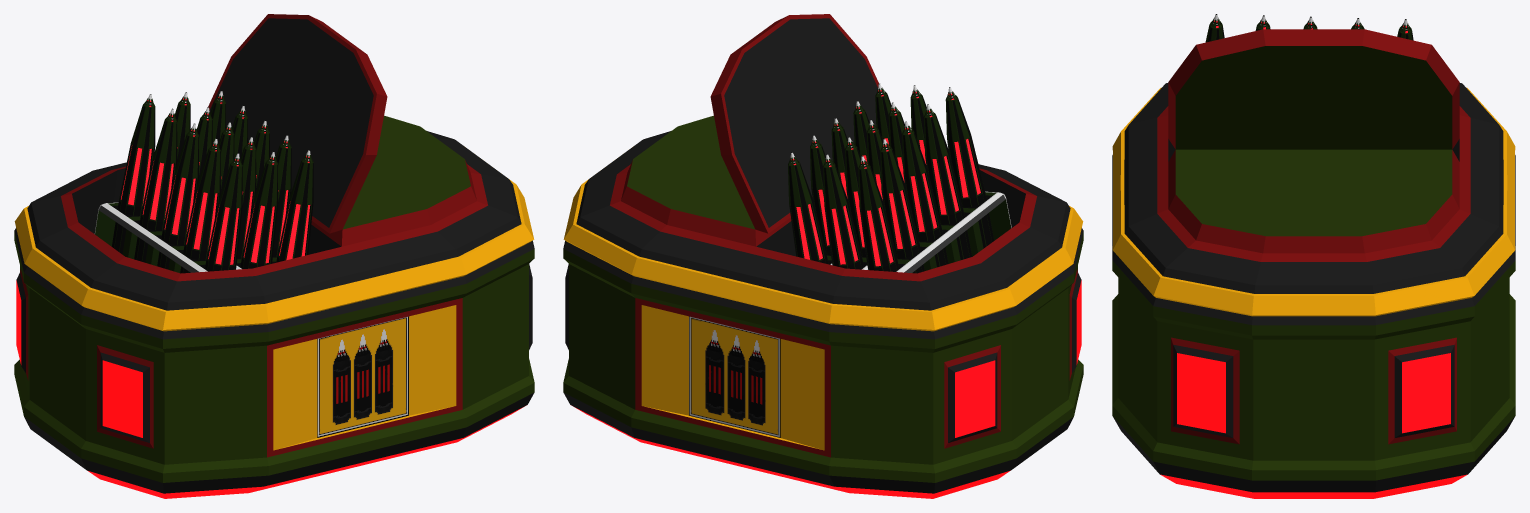
Rendered from ammo.fbx.
3 renders of one model, left to right at view 1: azimuth 30°, elevation 25°; view 2: azimuth 150°, elevation 25°; view 3: azimuth 270°, elevation 25°, orthographic. The views are drawn at different scales.
Parts seen in each view (by area): view 1: Cube, 3_clip; view 2: Cube, 3_clip; view 3: Cube, 3_clip.
Part boxes in pixels (<box>): Cube: <box>14,14,534,498</box>; 3_clip: <box>94,90,313,273</box>; Cube: <box>563,14,1083,498</box>; 3_clip: <box>788,83,1011,273</box>; Cube: <box>1112,29,1515,498</box>; 3_clip: <box>1205,14,1413,42</box>.
Bounding box in the file's own units: 110 × 86.14 × 80.
11 materials, 1 textured.
